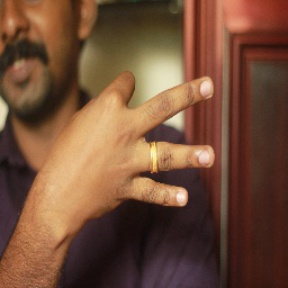K: (37, 71, 219, 223)
